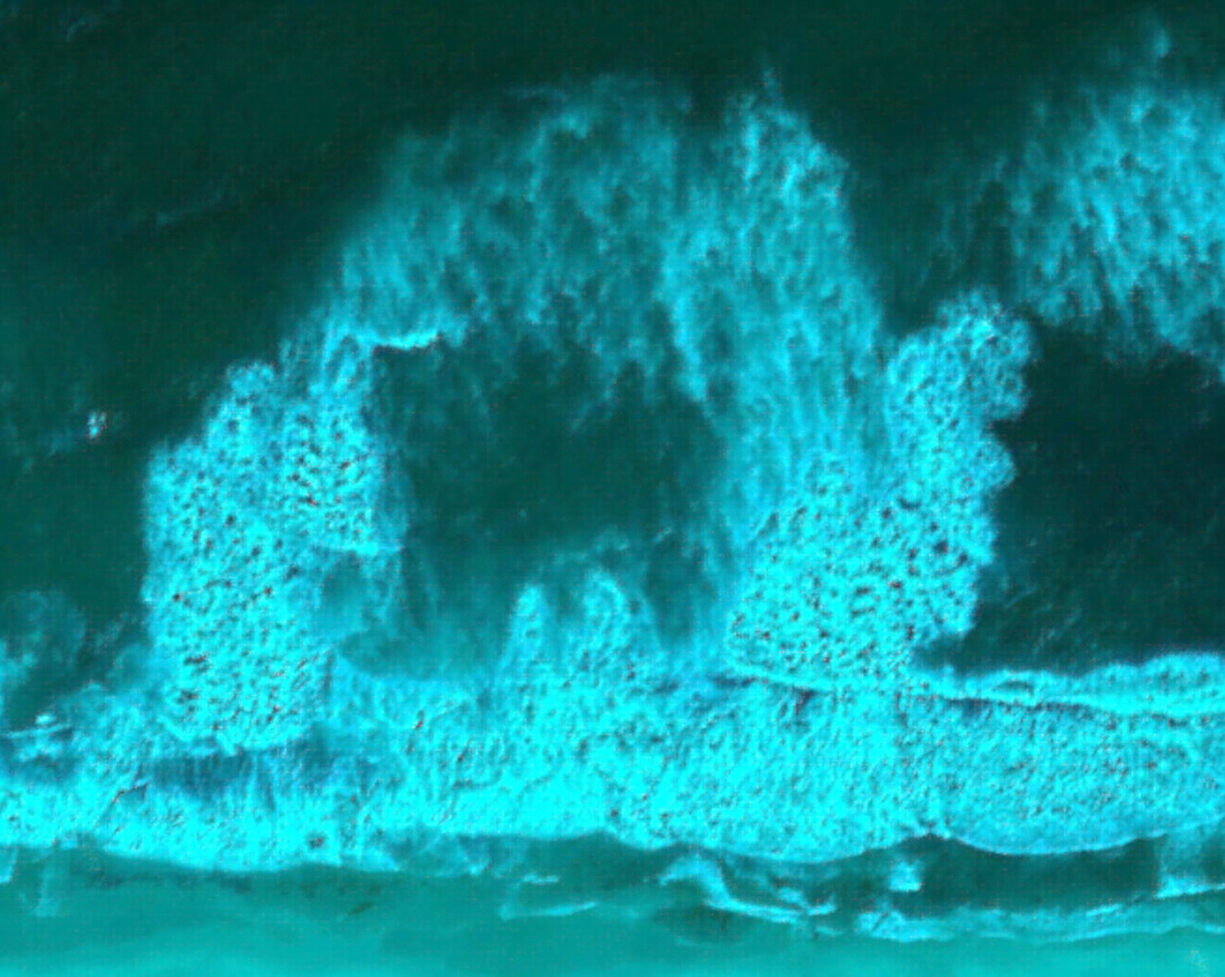rip_current: (274, 116, 720, 666)
